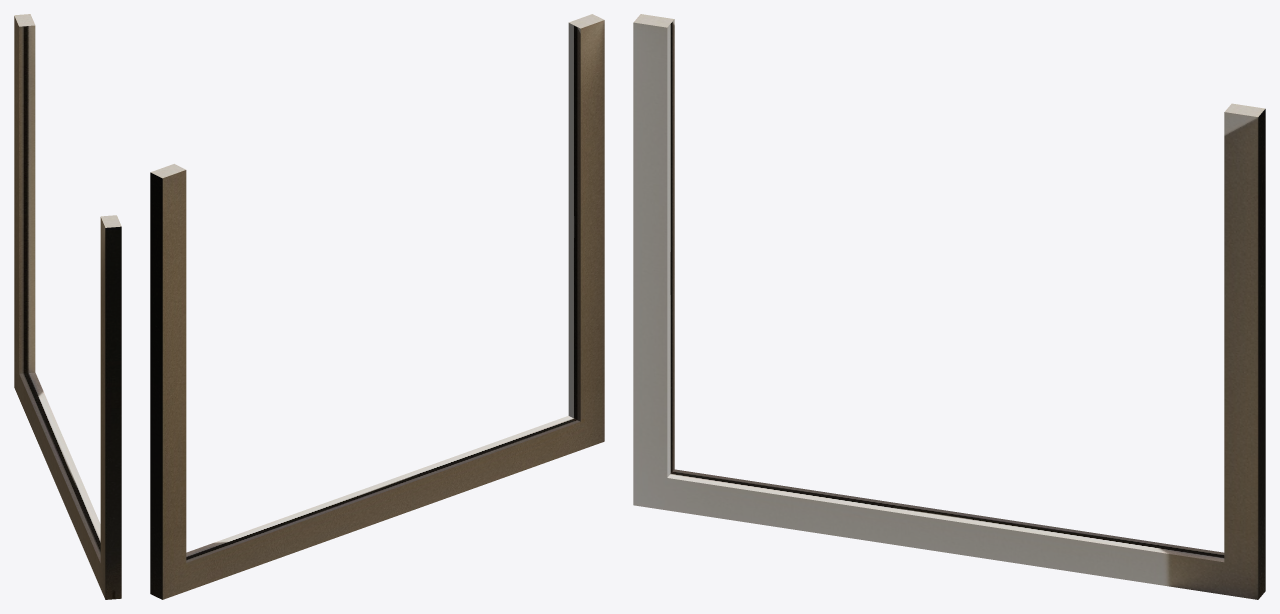
File: Building_05_L03_Ap_05_Frames.fbx
3 views of the same model, side by side, from view 1: azimuth 30°, elevation 25°; view 2: azimuth 150°, elevation 25°; view 3: azimuth 270°, elevation 25° (orthographic). The views are drawn at different scales.
Parts seen in each view (by area): view 1: Building_05_L03_Ap_05_Frames; view 2: Building_05_L03_Ap_05_Frames; view 3: Building_05_L03_Ap_05_Frames.
Boxes of the visible parts, x1,y1,x2,y2 form: Building_05_L03_Ap_05_Frames: (14,14,121,599); Building_05_L03_Ap_05_Frames: (150,14,604,599); Building_05_L03_Ap_05_Frames: (633,14,1265,599).
Bounding box in the file's own units: 0.6805 × 1.48 × 1.76.
1 material, 1 textured.
